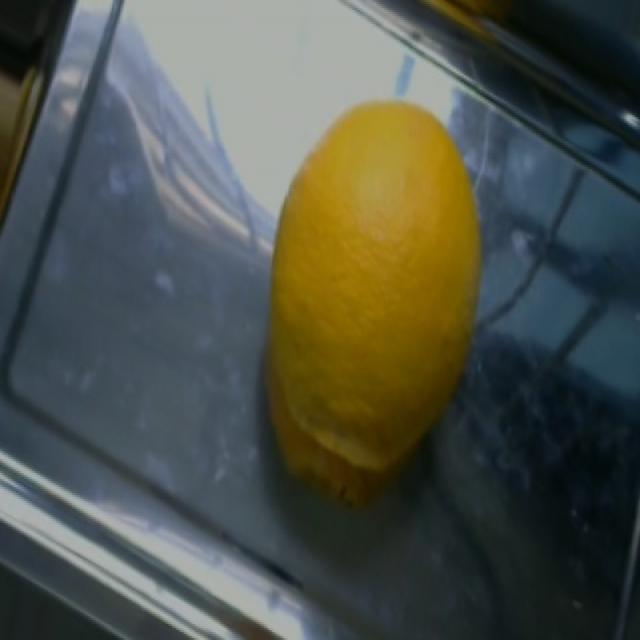Fruit: (246, 82, 506, 473)
